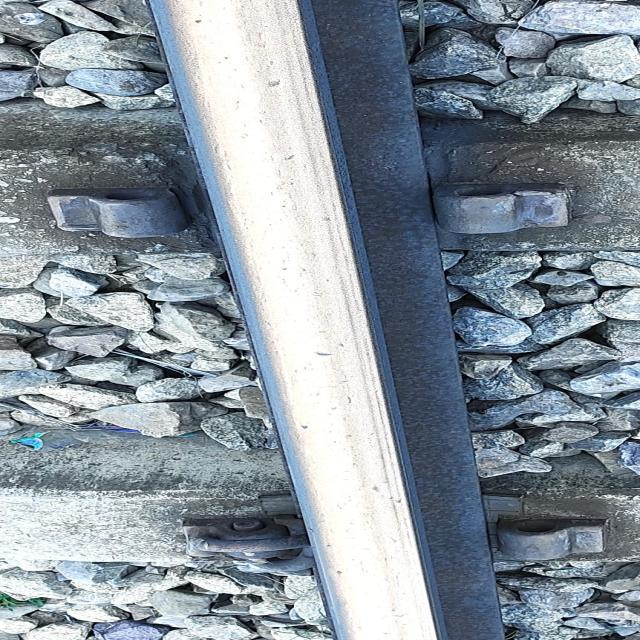Good Fasteners: (153, 514, 310, 575)
Missing Fastener: (0, 157, 216, 258), (433, 183, 572, 250), (486, 496, 607, 571)
